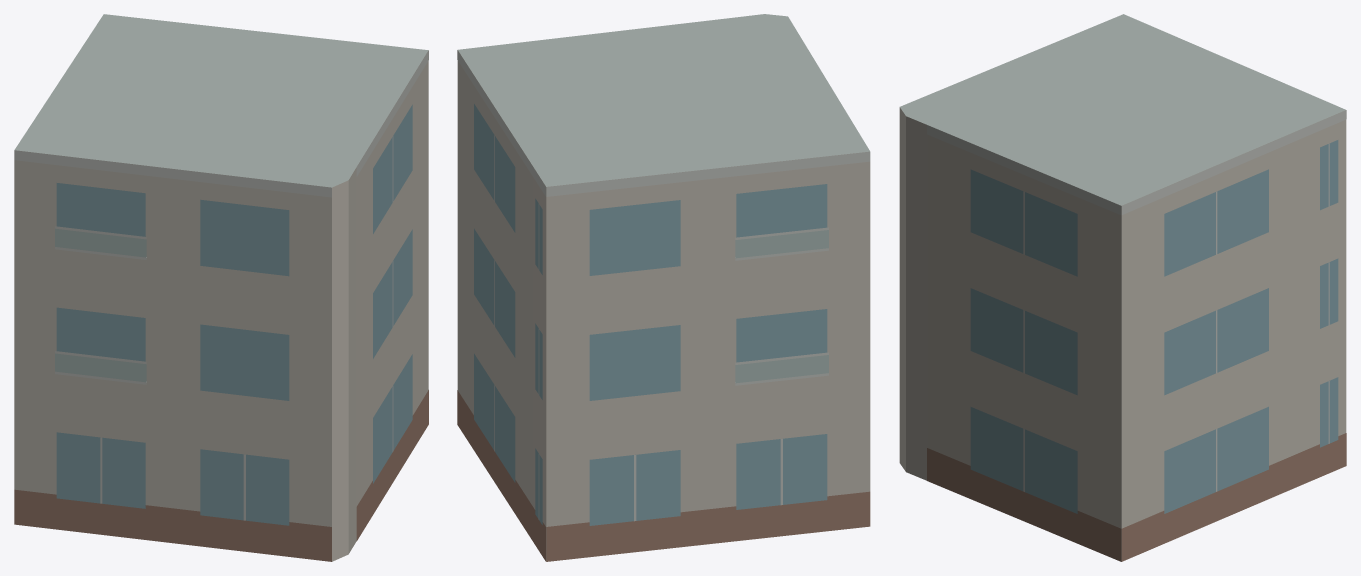
The model's file is survey-upis-32646350.glb.
3 renders of one model, left to right at view 1: azimuth 30°, elevation 25°; view 2: azimuth 150°, elevation 25°; view 3: azimuth 270°, elevation 25°, orthographic. The views are drawn at different scales.
Parts seen in each view (by area): view 1: survey-upis-32646350.tmp; view 2: survey-upis-32646350.tmp; view 3: survey-upis-32646350.tmp.
Part boxes in pixels (x1,y1,x2,y2): survey-upis-32646350.tmp: [14, 14, 428, 561]; survey-upis-32646350.tmp: [457, 14, 870, 561]; survey-upis-32646350.tmp: [899, 14, 1346, 561].
Size of the model in its own units: 10.52 by 9.1 by 10.36.
